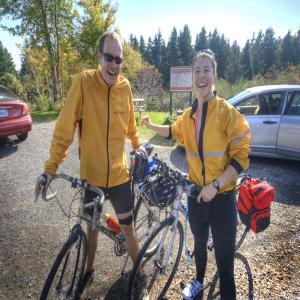Vehicle-registration-plate: (1, 109, 11, 119)
